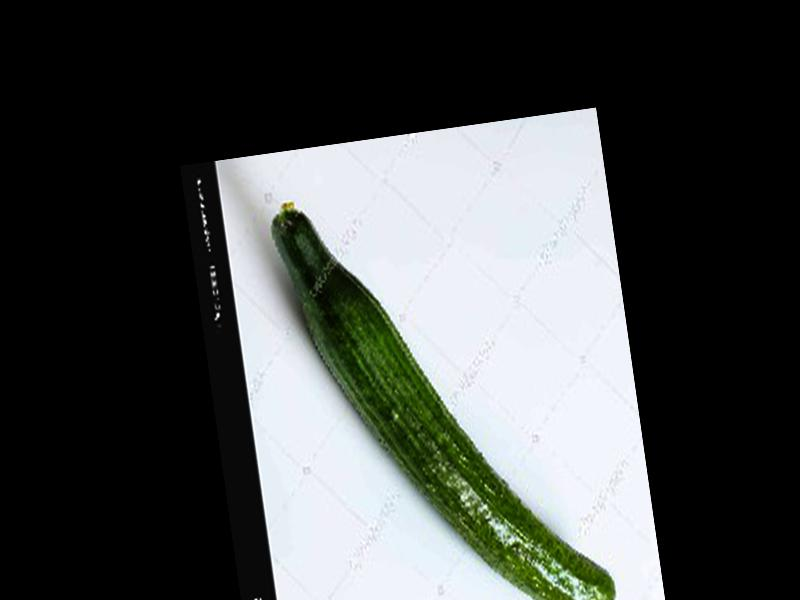Cucumber: (271, 165, 617, 600)
